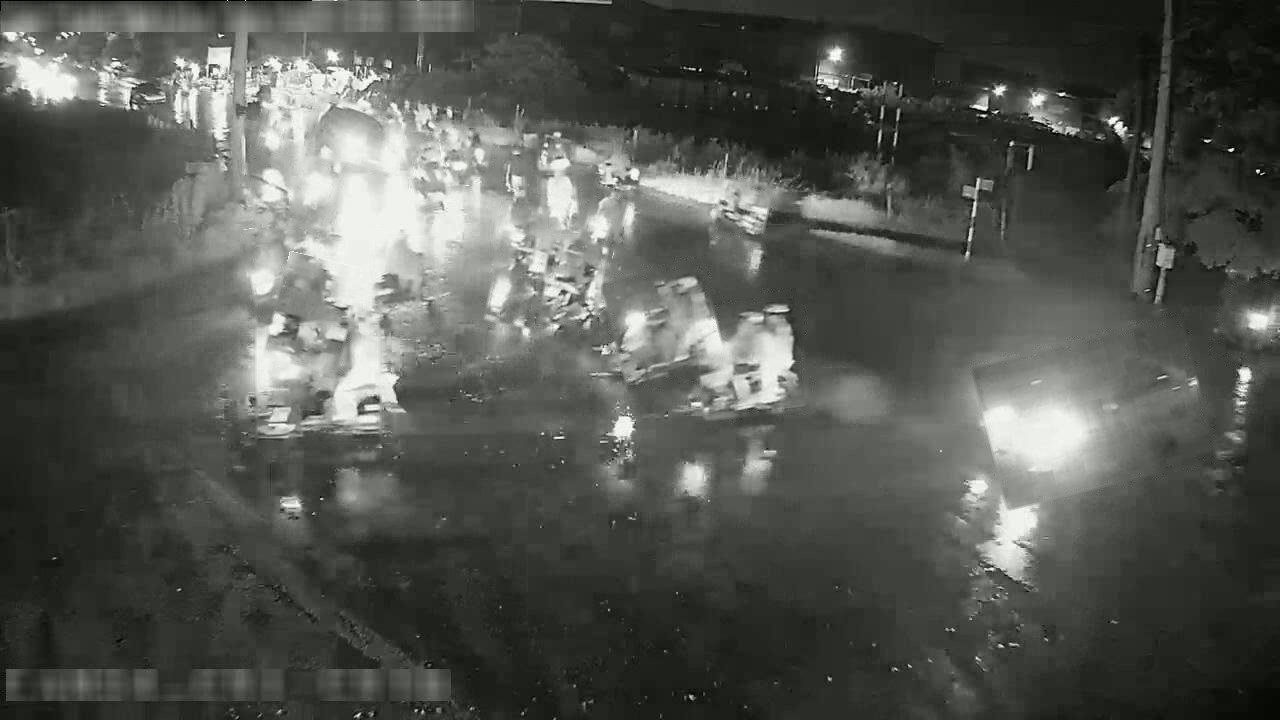Car: (971, 333, 1210, 507), (310, 105, 402, 170), (279, 495, 302, 518)
Motorcyclist: (249, 307, 399, 437), (607, 275, 725, 385), (690, 304, 801, 416), (268, 252, 353, 375), (247, 230, 323, 321), (486, 230, 547, 325), (372, 234, 433, 328), (1215, 275, 1279, 357), (543, 245, 604, 329), (293, 158, 337, 229), (712, 185, 769, 238), (246, 167, 292, 230), (498, 198, 536, 270), (585, 191, 626, 256), (410, 145, 445, 207), (545, 168, 577, 229), (503, 146, 531, 201), (538, 131, 571, 177), (259, 109, 288, 158), (441, 140, 470, 186), (467, 133, 490, 180)
